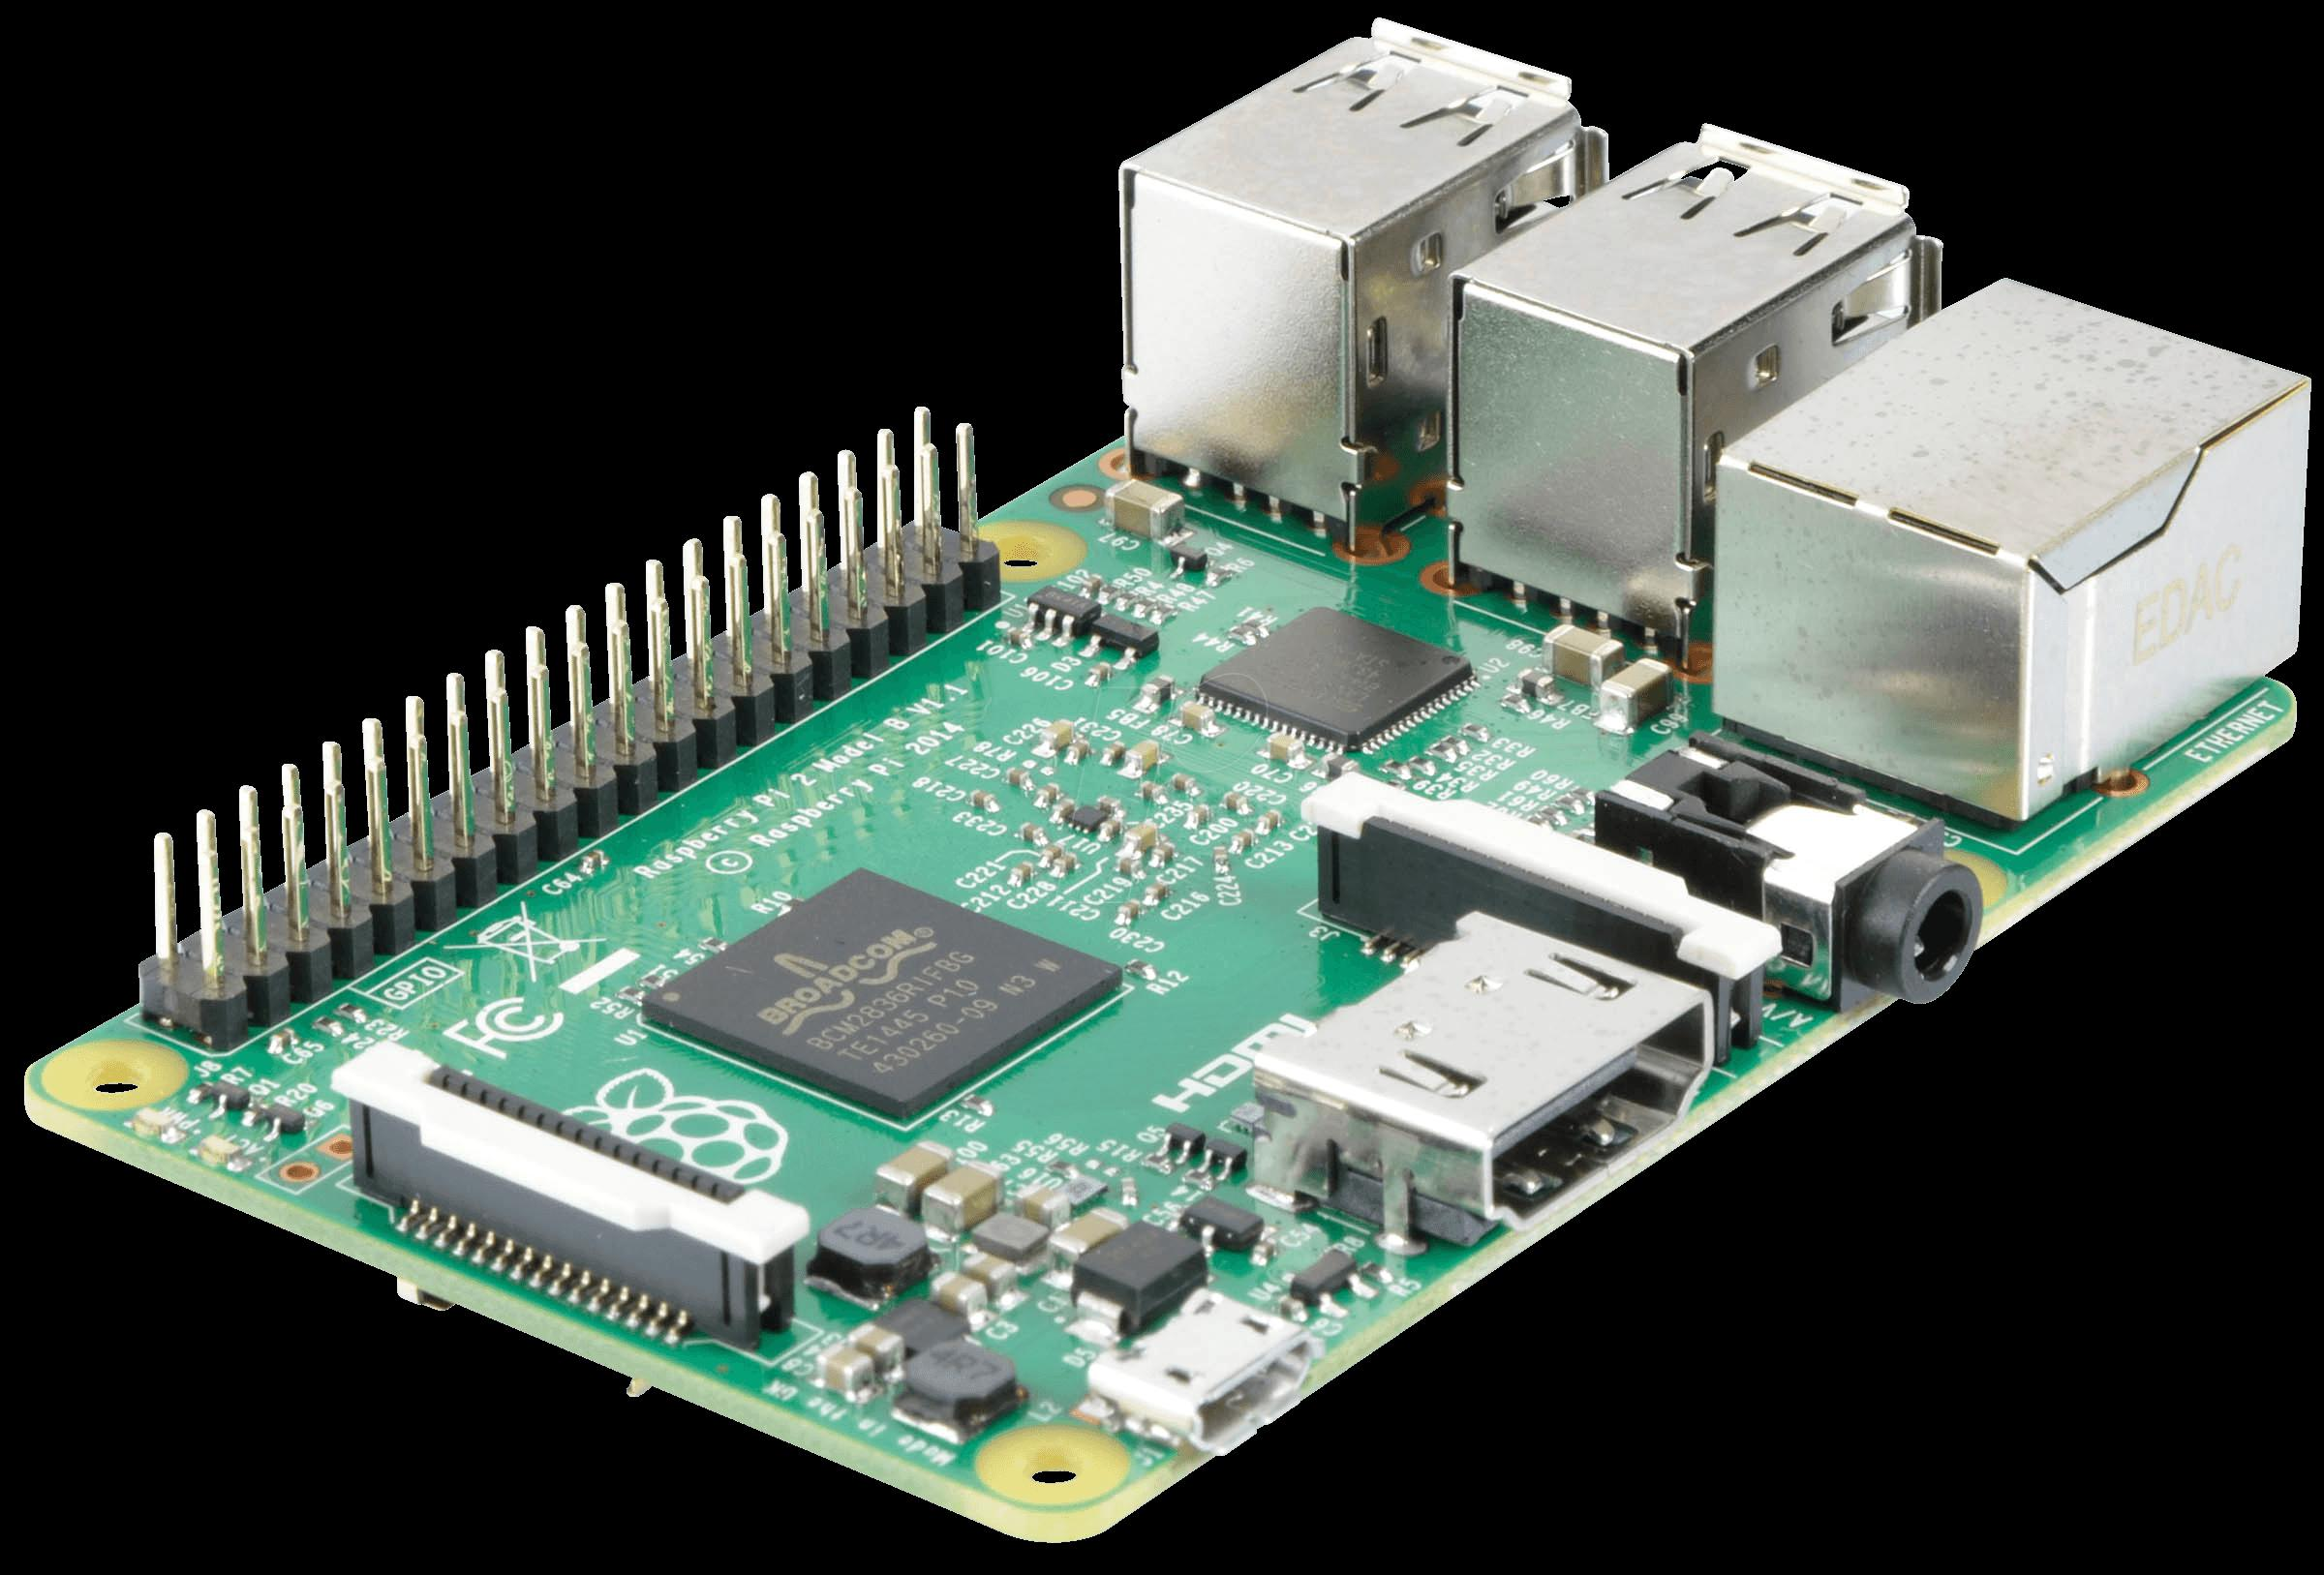audiojack: (1584, 731, 1992, 1020)
bchi: (647, 868, 1127, 1106)
ethernet: (1710, 274, 2308, 821)
gpio: (135, 406, 1006, 1048)
usb: (1123, 21, 1589, 529), (1447, 130, 1932, 610)
